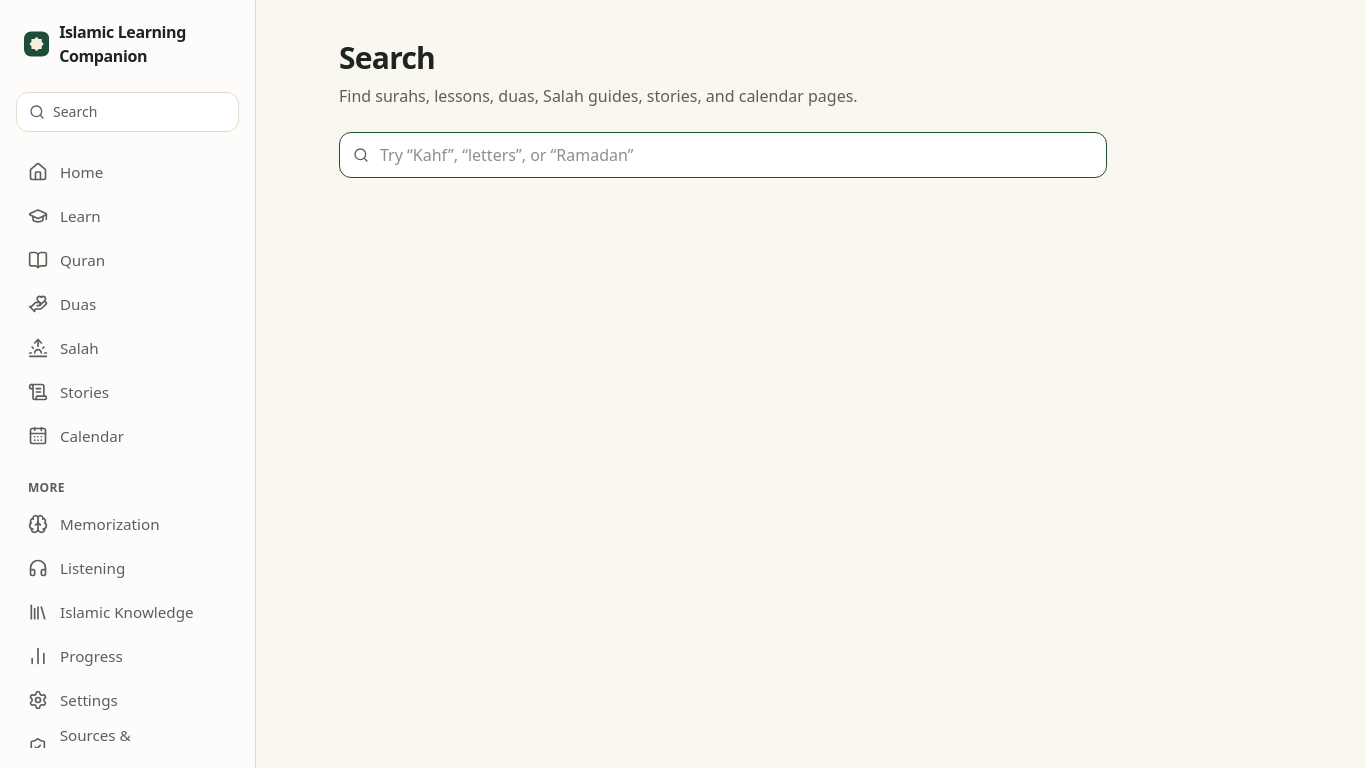
Test case: global search › returns published content only, with its review status
Type "journeys" into the search field named "search everything" at (723, 155), box [339, 132, 1107, 178]
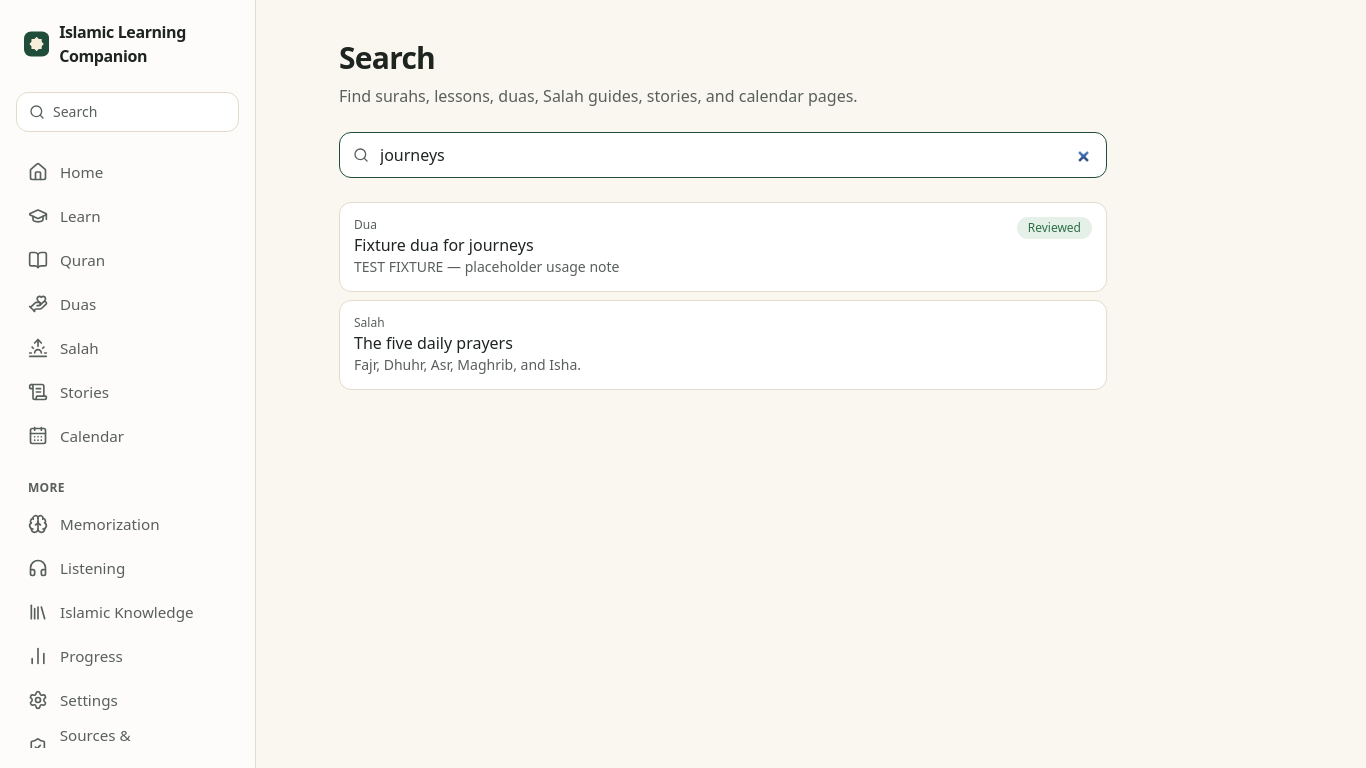
Expected: the text "Reviewed" is shown, [1017, 217, 1092, 239]
